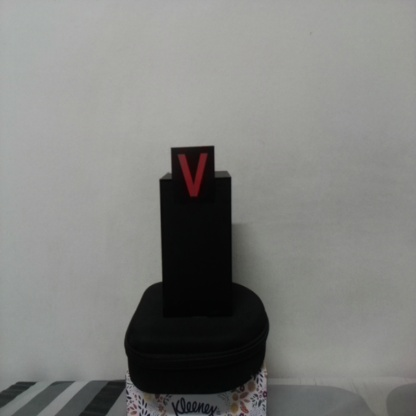id_11: (172, 148, 214, 204)
